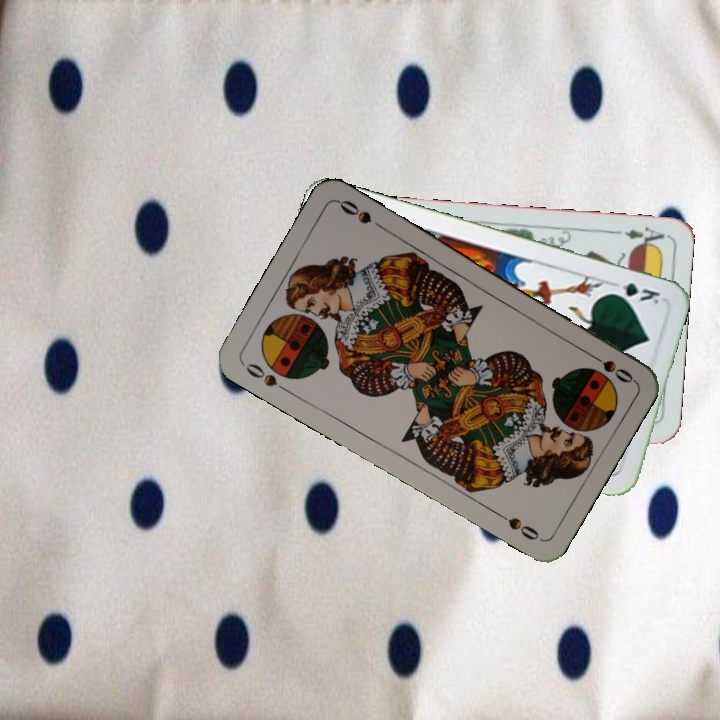EA: (609, 222, 667, 250)
GK: (605, 278, 662, 307)
SO: (582, 347, 636, 386), (239, 359, 292, 396)
